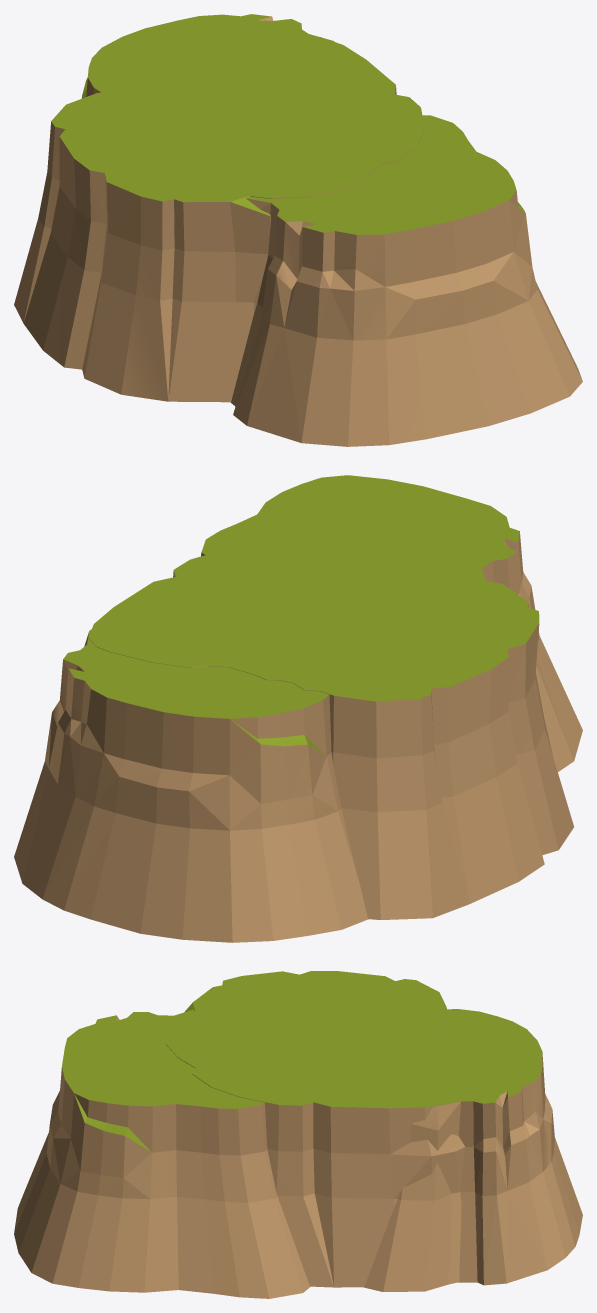
File: islands_06.FBX
The picture shows the model from 3 angles, top to bottom: view 1: azimuth 30°, elevation 25°; view 2: azimuth 150°, elevation 25°; view 3: azimuth 270°, elevation 25°; orthographic projection. The views are drawn at different scales.
Parts seen in each view (by area): view 1: Islands_06; view 2: Islands_06; view 3: Islands_06.
Part boxes in pixels (box(x1,y1,x2,y2)): Islands_06: box(14, 14, 582, 446); Islands_06: box(14, 475, 582, 942); Islands_06: box(14, 971, 582, 1298).
Bounding box in the file's own units: 4225 × 1847 × 5782.
